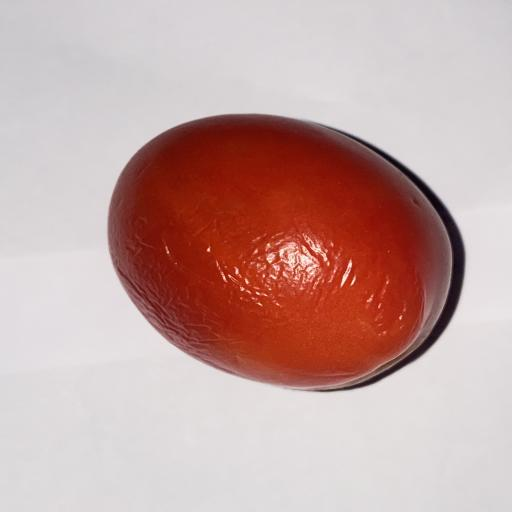spoiled: (108, 115, 452, 389)
